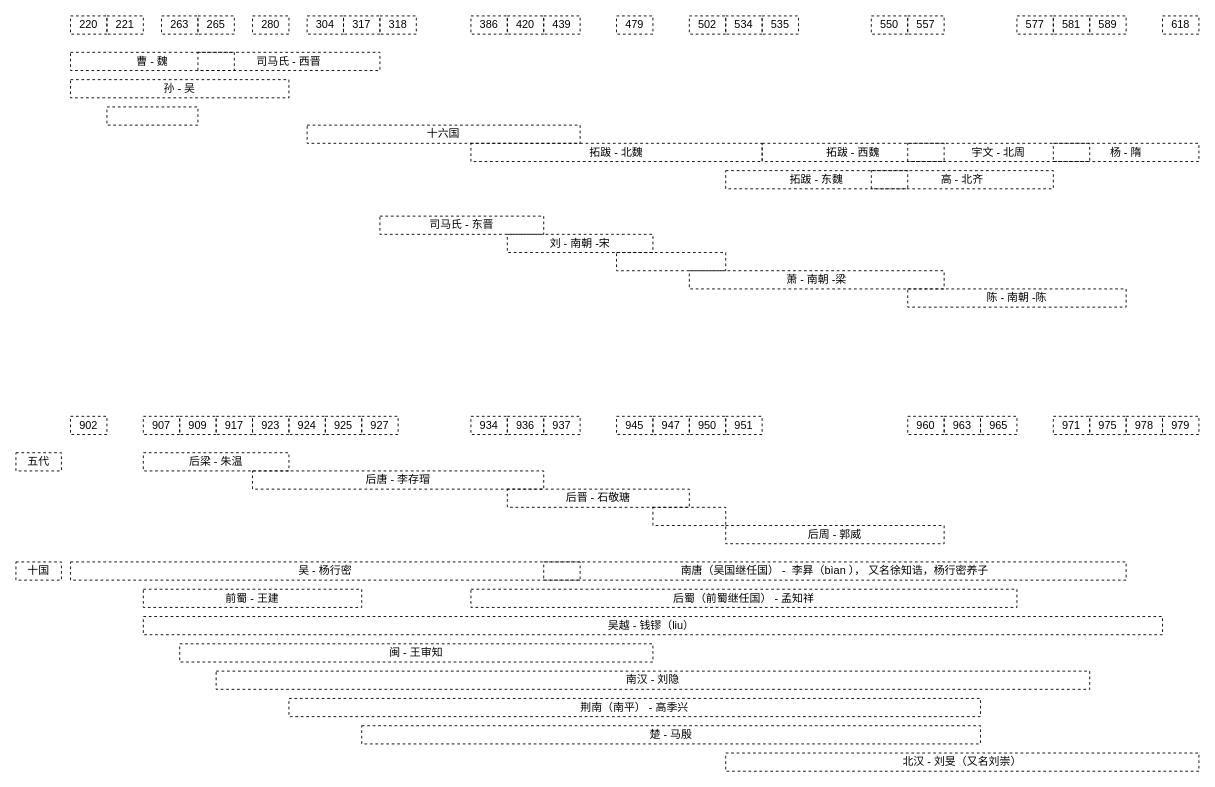
Some shapes in this 1215 by 787 pixel diagram are drawn without their labels. The centre of each missing label's shape, as x and y in pixels:
刘 - 蜀: the point at 152,115
后汉 - 刘知远: the point at 689,516
萧 - 南朝 -齐: the point at 671,261
